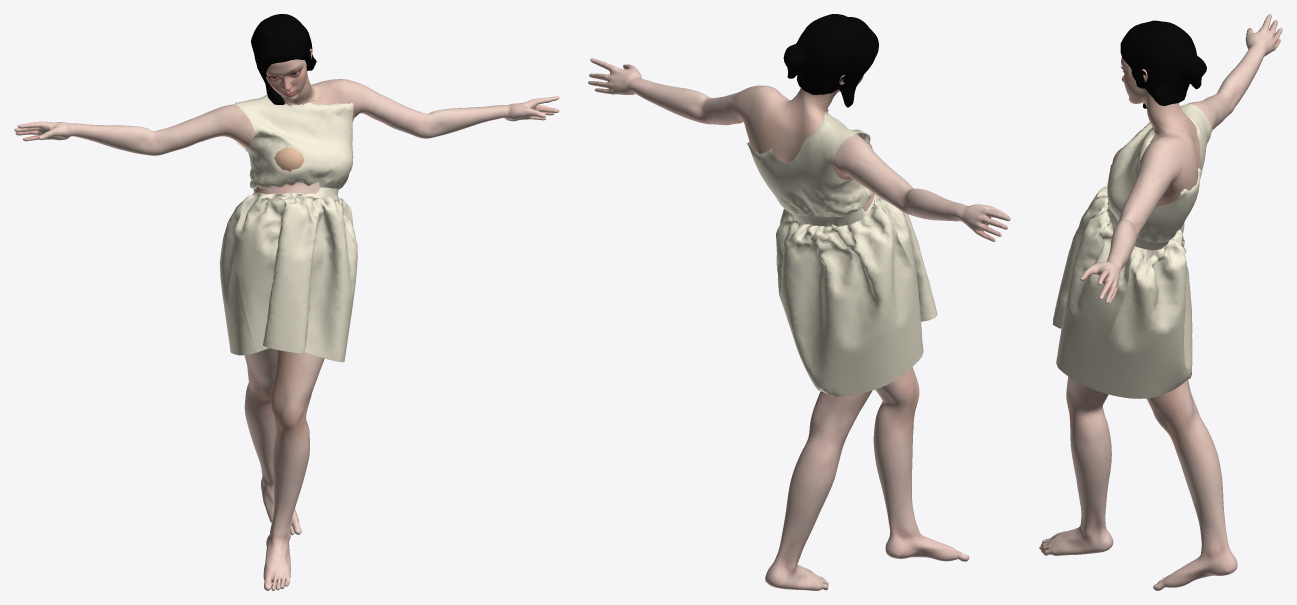
File: Dynamic_2.obj
3 renders of one model, left to right at view 1: azimuth 30°, elevation 25°; view 2: azimuth 150°, elevation 25°; view 3: azimuth 270°, elevation 25°, orthographic. The views are drawn at different scales.
Size of the model in its own units: 1601 by 1717 by 679.
